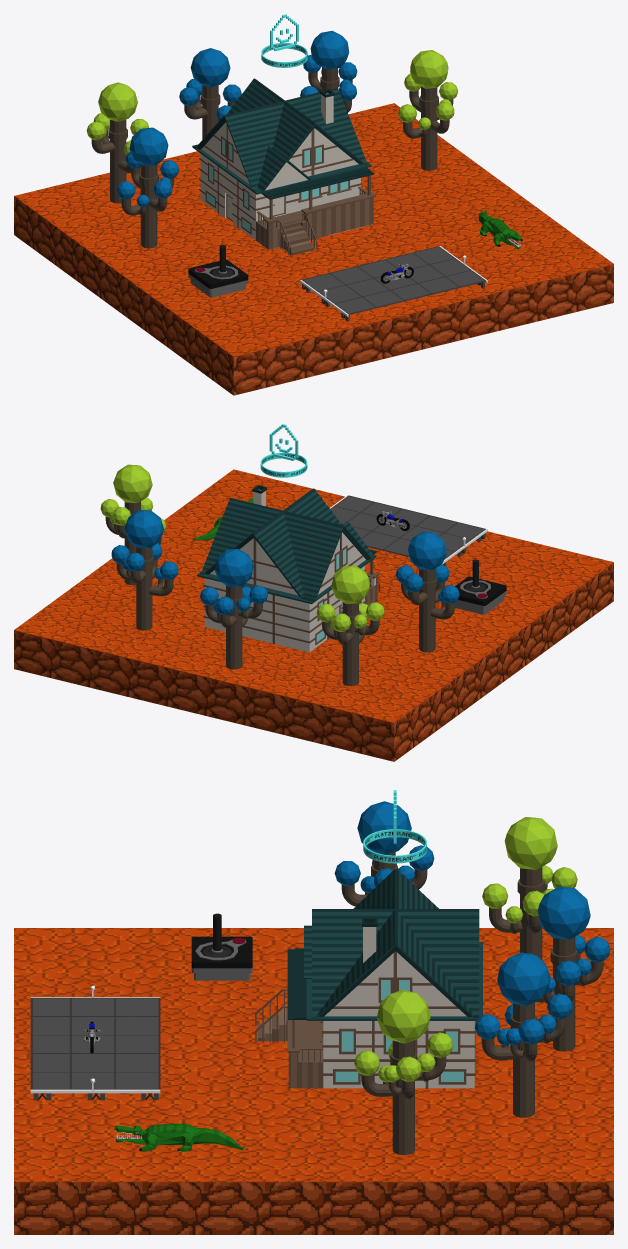
The picture shows the model from 3 angles, top to bottom: view 1: azimuth 30°, elevation 25°; view 2: azimuth 150°, elevation 25°; view 3: azimuth 270°, elevation 25°; orthographic projection. The views are drawn at different scales.
Visible parts, largest first — view 1: Cube.001, Cube.793, OBJRANDOM_JOYSTICK, TYPE_PREMIUM, ANIMAL_COCODRILO; view 2: Cube.001, Cube.793, OBJRANDOM_JOYSTICK, TYPE_PREMIUM; view 3: Cube.001, Cube.793, OBJRANDOM_JOYSTICK, ANIMAL_COCODRILO, TYPE_PREMIUM.
Boxes of the visible parts, x1,y1,x2,y2 form: Cube.001: [14, 30, 613, 395]; Cube.793: [192, 78, 376, 256]; OBJRANDOM_JOYSTICK: [188, 245, 248, 297]; TYPE_PREMIUM: [261, 14, 307, 67]; ANIMAL_COCODRILO: [478, 210, 522, 249]; Cube.001: [14, 464, 613, 761]; Cube.793: [197, 485, 379, 652]; OBJRANDOM_JOYSTICK: [455, 559, 506, 614]; TYPE_PREMIUM: [260, 424, 307, 477]; Cube.001: [14, 801, 613, 1234]; Cube.793: [255, 869, 482, 1088]; OBJRANDOM_JOYSTICK: [191, 913, 252, 980]; ANIMAL_COCODRILO: [114, 1123, 243, 1151]; TYPE_PREMIUM: [363, 790, 426, 863].
Size of the model in its own units: 4000 by 2388 by 4000.
Materials: 35 (6 with a texture image).
